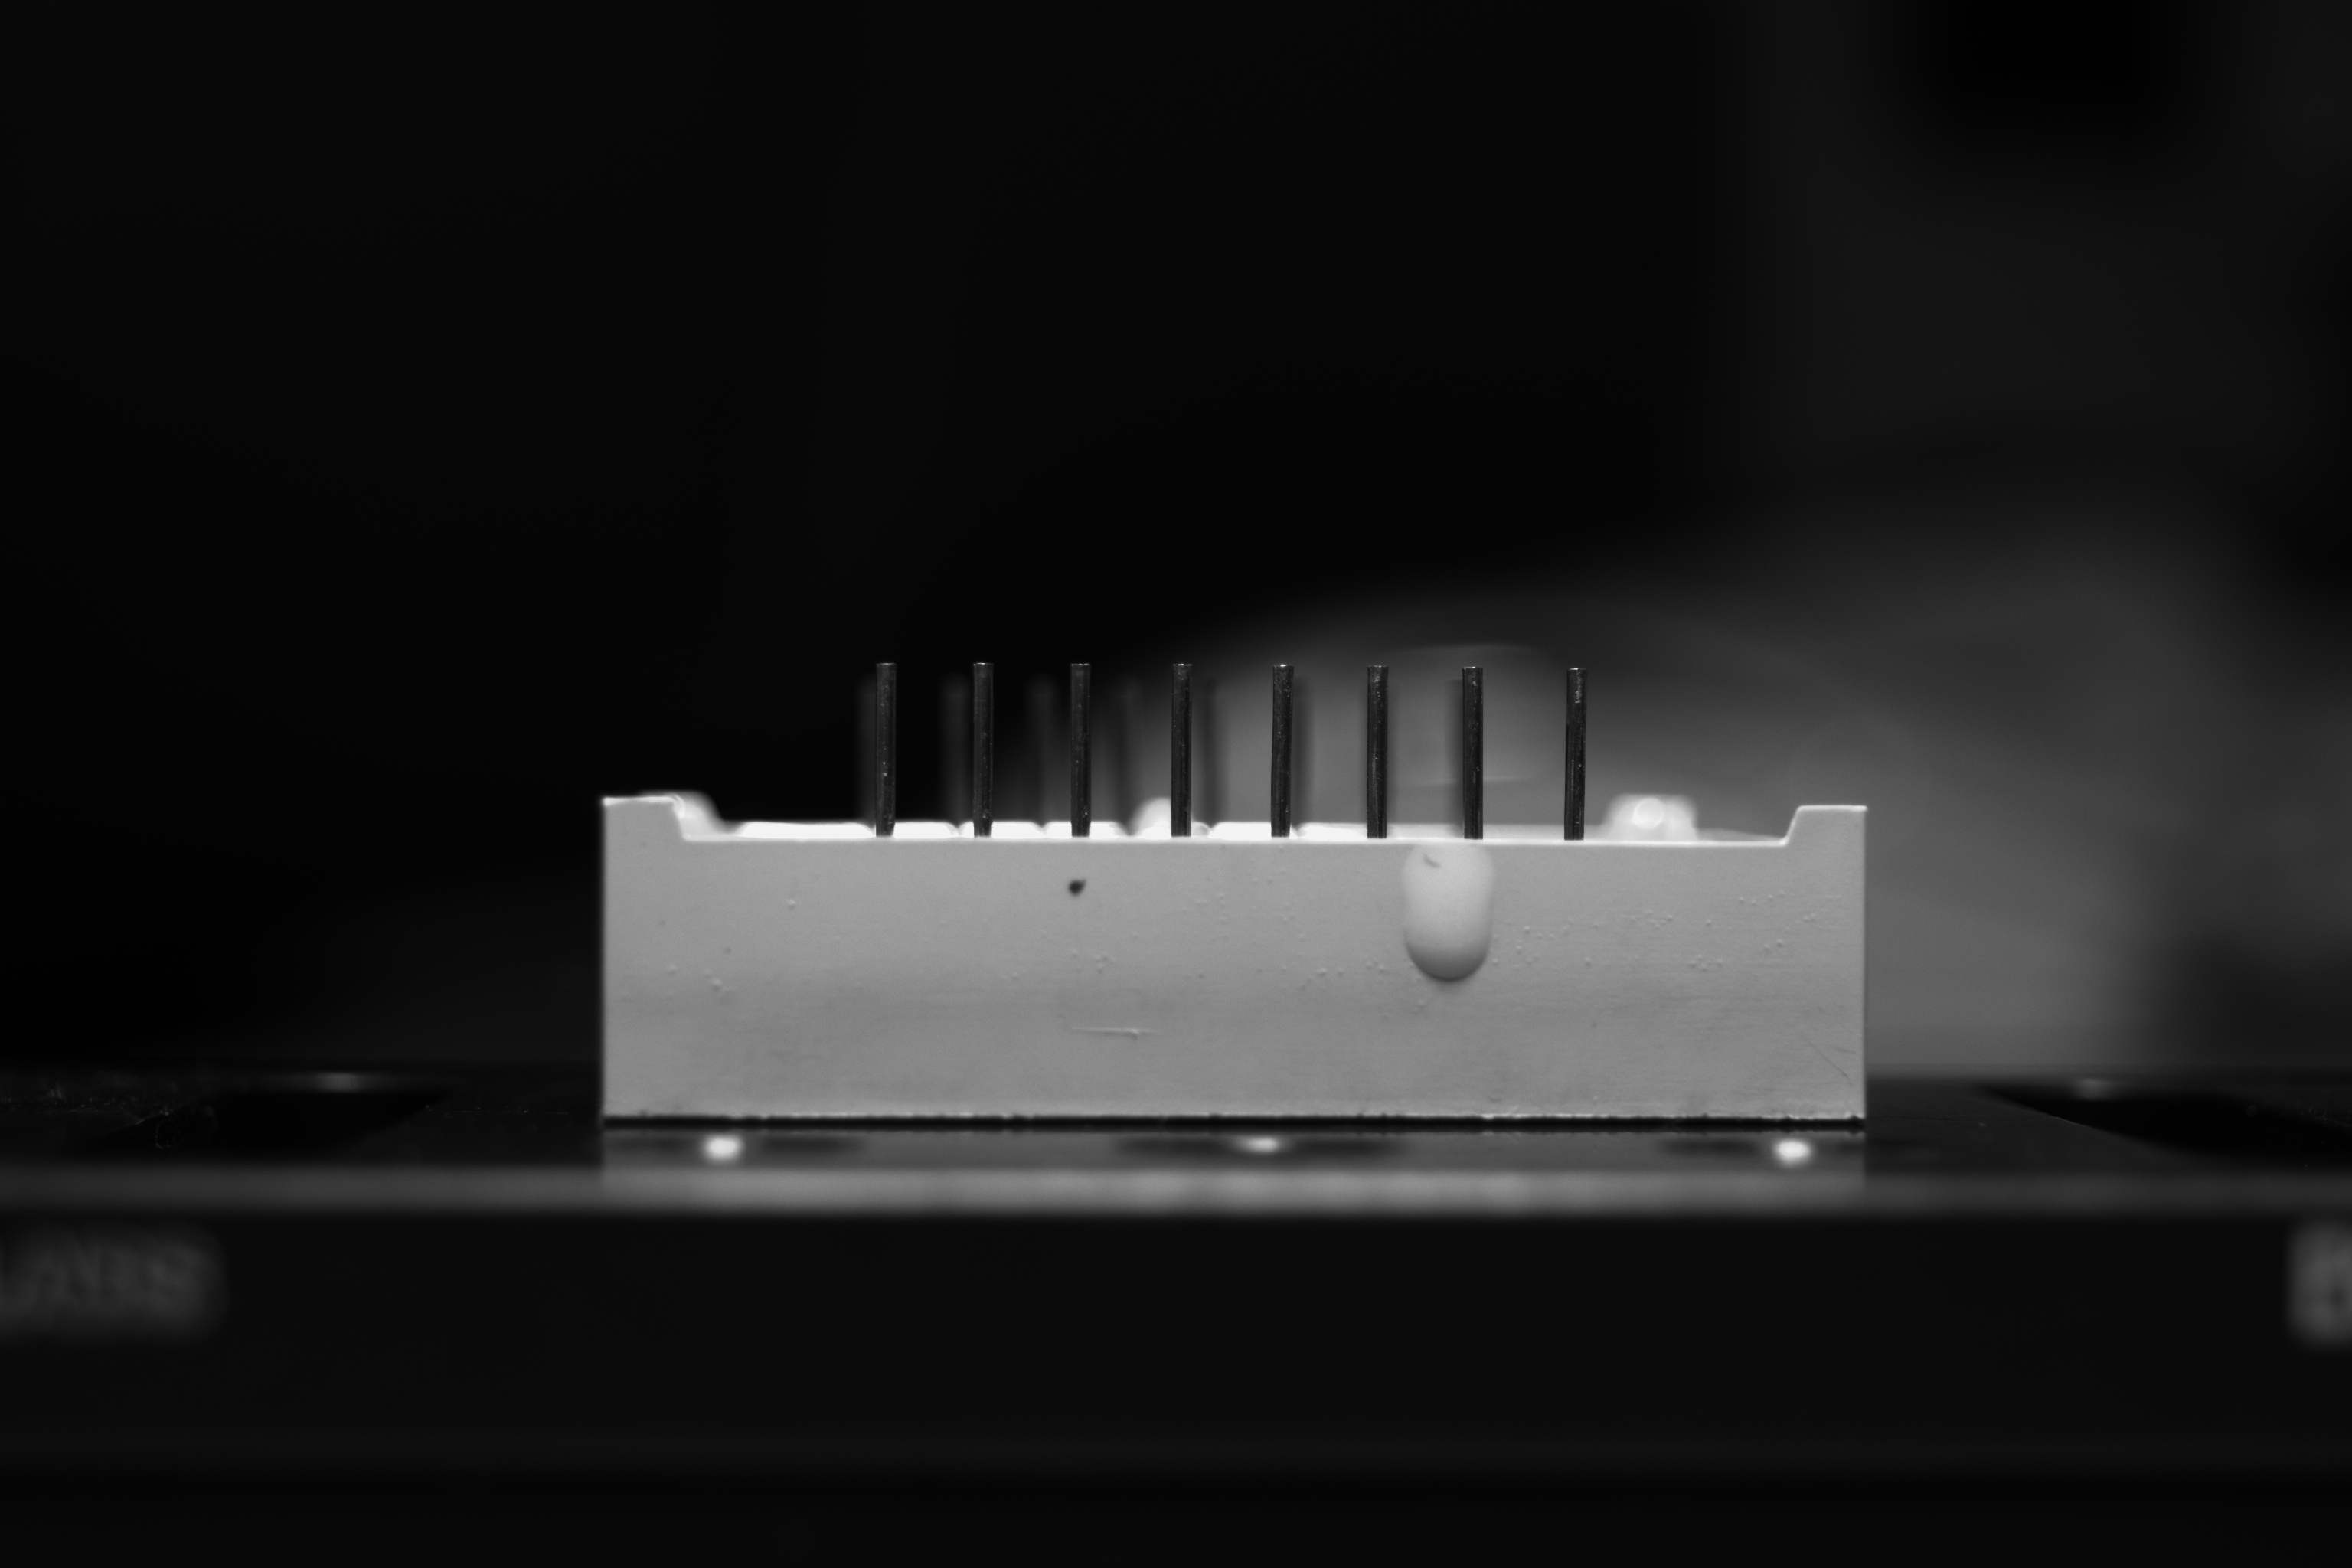glue: (1396, 843, 1512, 989), (1078, 1011, 1157, 1046)
